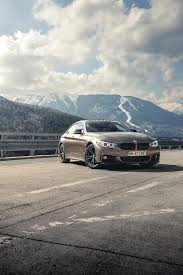car: (52, 112, 164, 171)
